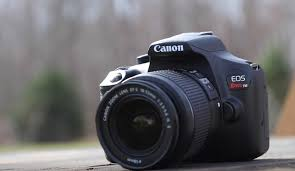camera: (98, 34, 269, 162)
